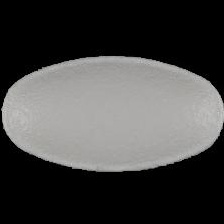68258-6992: (0, 0, 224, 224)
